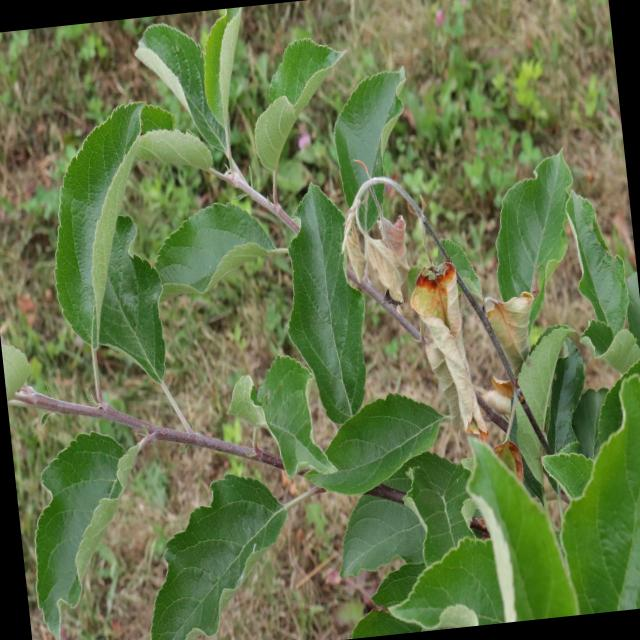-FireBlight-: (408, 256, 493, 432), (340, 165, 416, 302), (486, 286, 537, 374)
